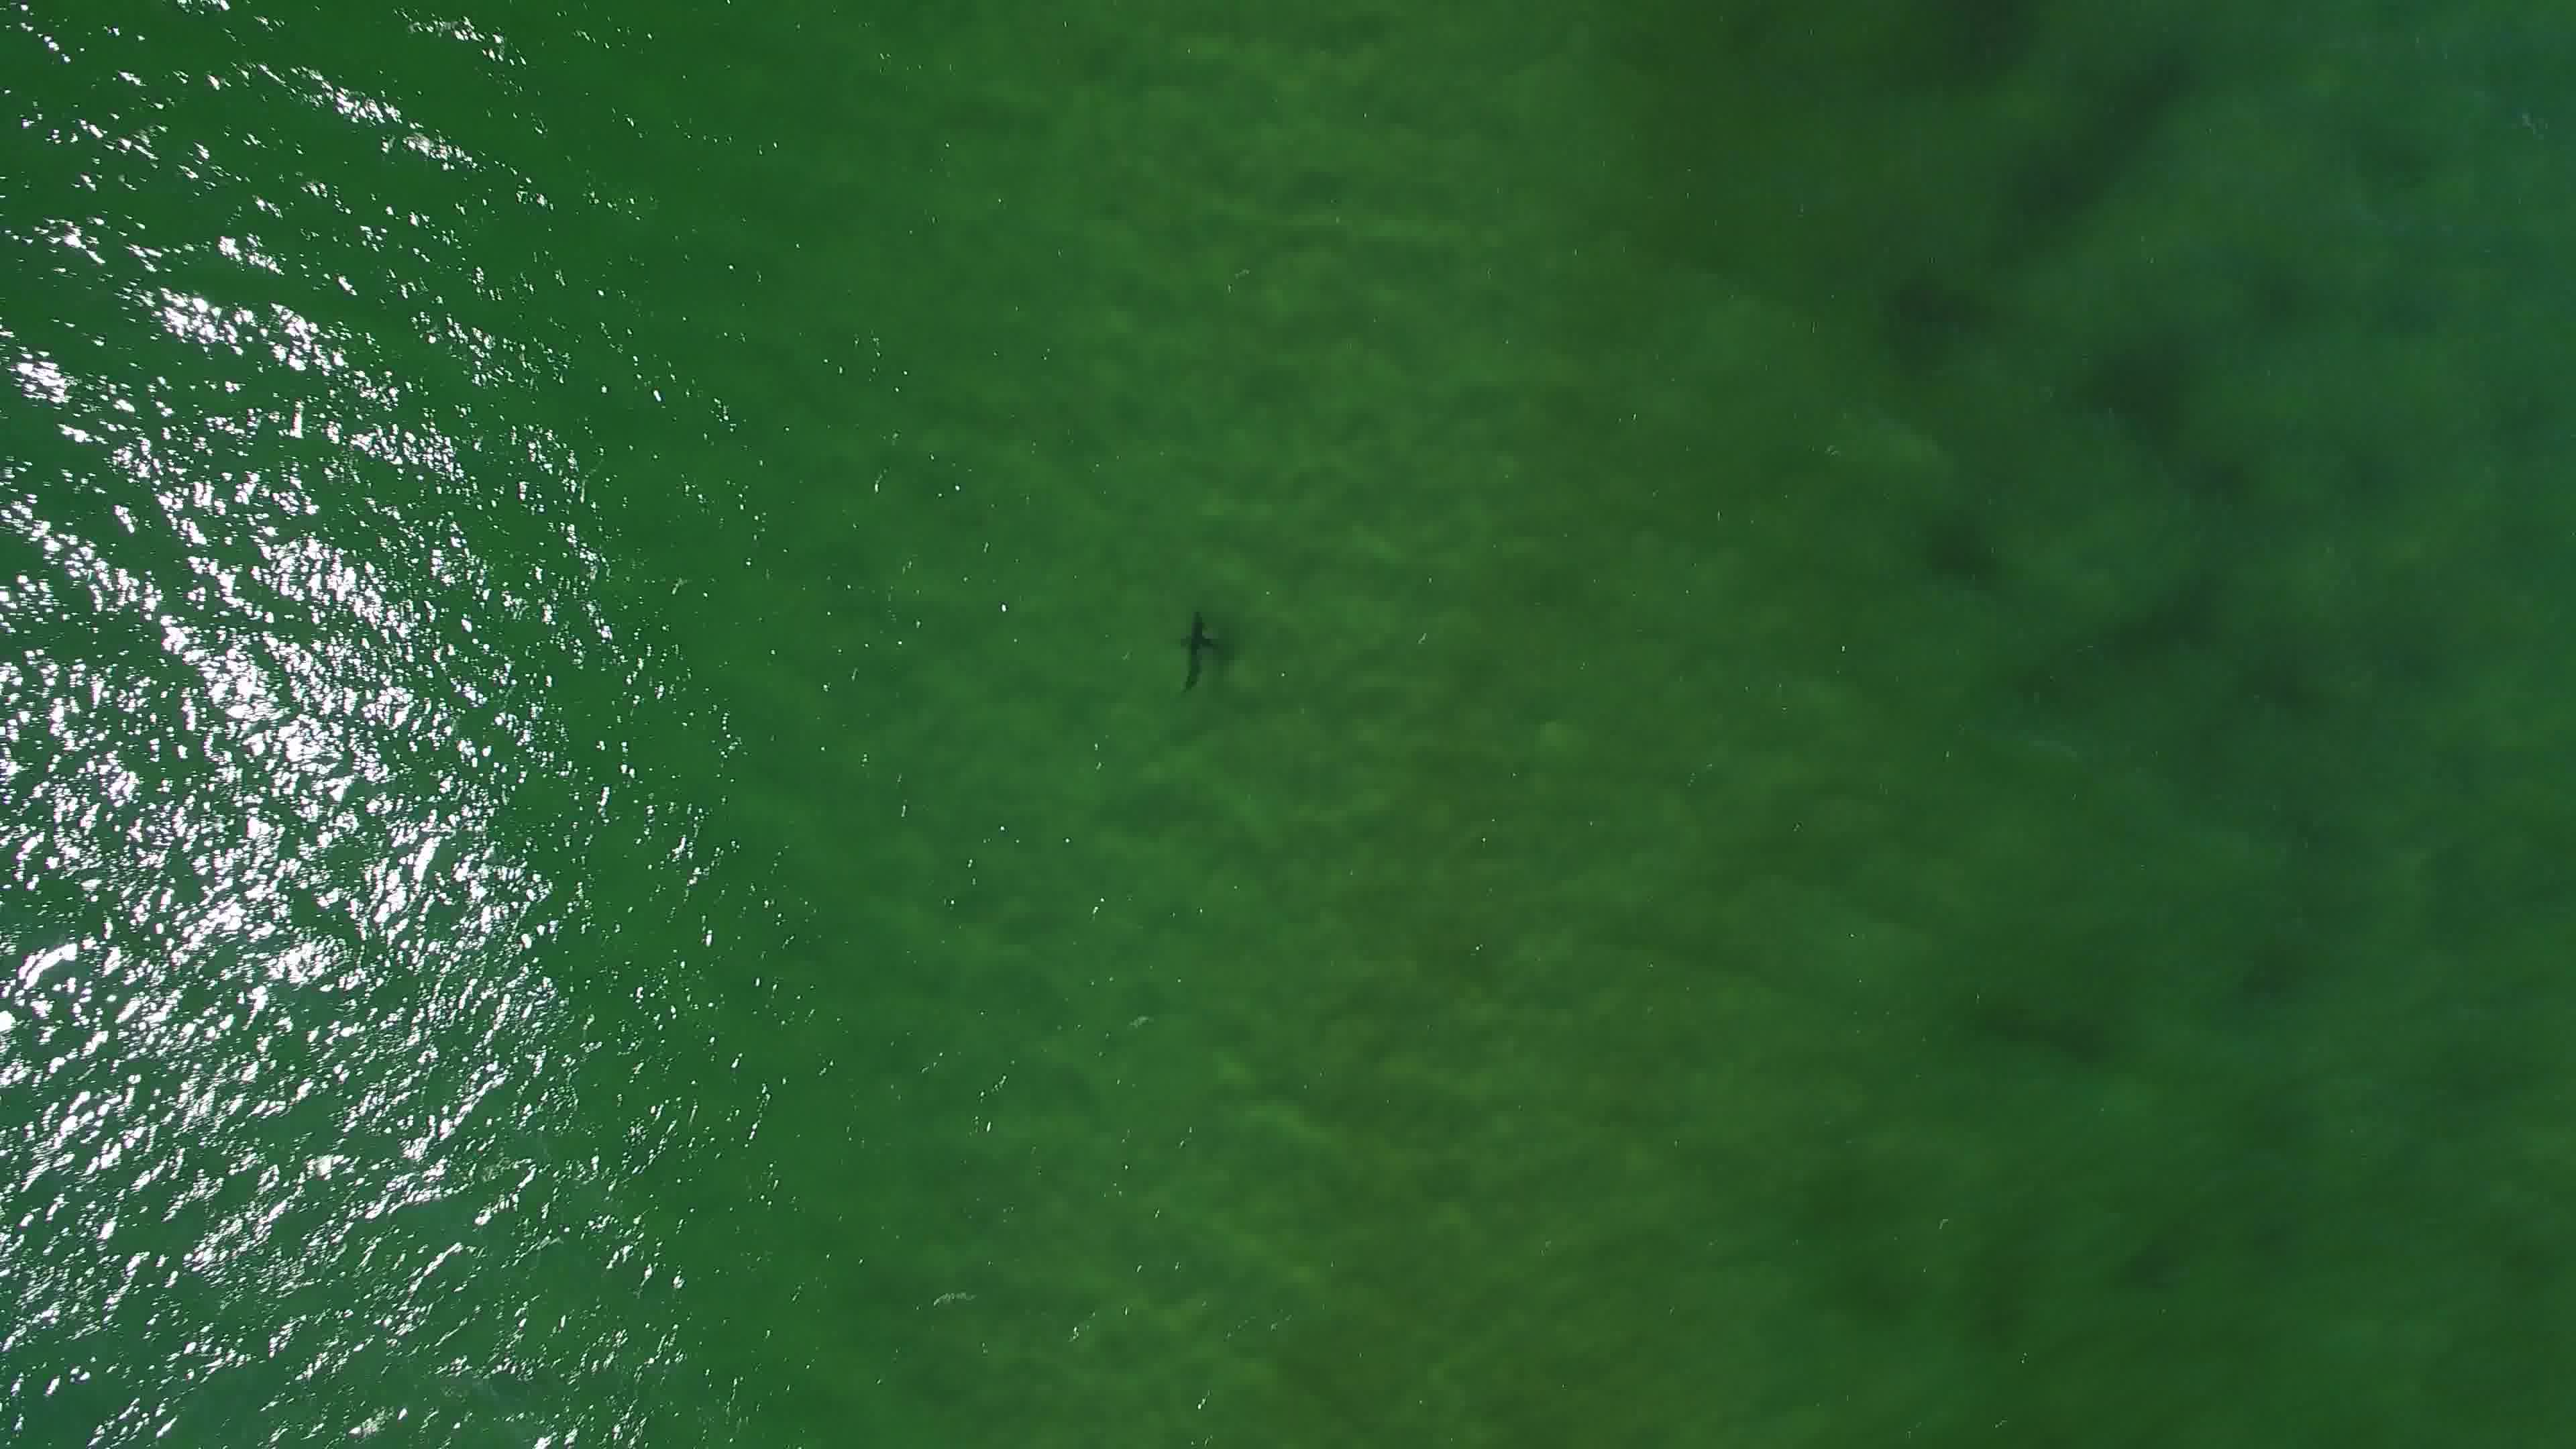shark: (1164, 607, 1224, 697)
